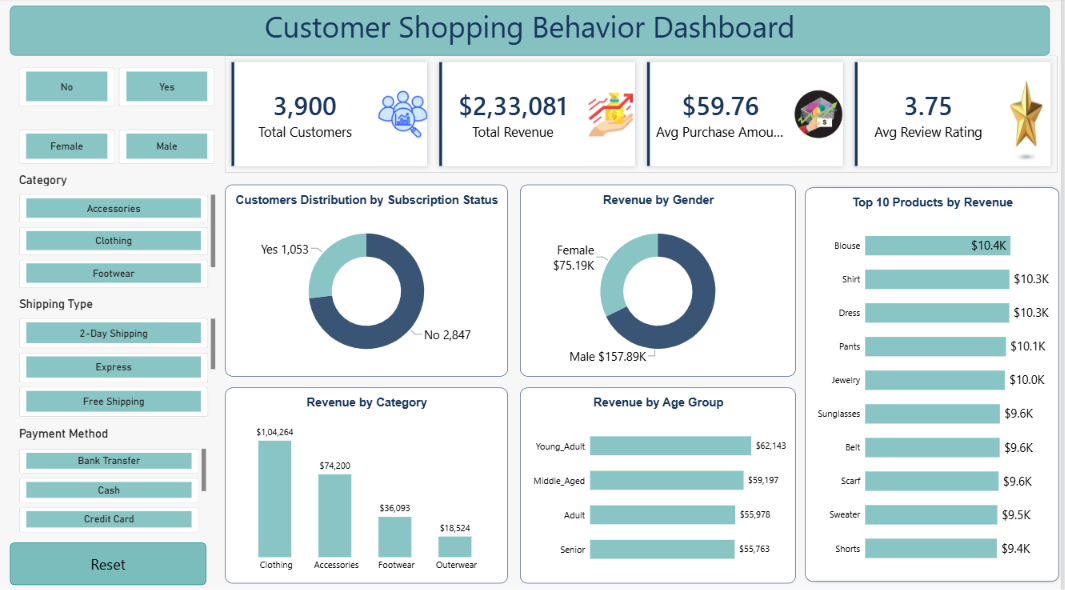

What the dashboard file says about the page in this screenshot:
{"tool":"powerbi","page":{"name":"Page 1","canvas":[1920,1080],"ordinal":0},"visuals":[{"type":"donutChart","title":"Customers Distribution by Subscription Status","fields":{"Category":["public customer.subscription_status"],"Y":["public customer.Total Customers"]},"box":[407.2,338.4,512.1,347.5],"z":0},{"type":"shape","box":[1456.6,338,463.4,723.6],"z":1000},{"type":"cardVisual","fields":{"Data":["public customer.Total Customers","public customer.Total Revenue","public customer.Avg Purchase Amount","public customer.Avg Review Rating"]},"box":[406.8,104.9,1508.8,212],"z":2000},{"type":"textbox","box":[18.5,14.4,1881.3,90.6],"z":3000},{"type":"clusteredColumnChart","title":"Revenue by Category","fields":{"Category":["public customer.category"],"Y":["public customer.Total Revenue"]},"box":[407.2,705.8,512.1,354.7],"z":4000},{"type":"clusteredBarChart","title":"Revenue by Age Group","fields":{"Category":["public customer.age_group"],"Y":["public customer.Total Revenue"]},"box":[941,705.8,499.5,354.7],"z":5000},{"type":"clusteredBarChart","title":"Top 10 Products by Revenue","fields":{"Category":["public customer.item_purchased"],"Y":["public customer.Total Revenue"]},"box":[1456.8,343.8,459.7,713],"z":6000},{"type":"donutChart","title":"Revenue by Gender","fields":{"Category":["public customer.gender"],"Y":["public customer.Total Revenue"]},"box":[941,338.4,499.5,347.5],"z":7000},{"type":"advancedSlicerVisual","fields":{"Values":["public customer.subscription_status"]},"box":[34.3,127.1,355,70.6],"z":8000},{"type":"advancedSlicerVisual","fields":{"Values":["public customer.gender"]},"box":[34.3,238,355,62.5],"z":9000},{"type":"advancedSlicerVisual","title":"Category","fields":{"Values":["public customer.category"]},"box":[34.3,316.7,355,209.8],"z":10000},{"type":"advancedSlicerVisual","title":"Shipping Type","fields":{"Values":["public customer.shipping_type"]},"box":[34.3,540.6,355,219.9],"z":11000},{"type":"advancedSlicerVisual","title":"Payment Method","fields":{"Values":["public customer.payment_method"]},"box":[34.3,776.6,338.9,193.7],"z":12000},{"type":"actionButton","box":[18.2,986.4,355,76.7],"z":12001}]}

Visuals, with their boxes in screenshot pixels (x1, y1, x2, y2), scaled from the page's 1920x1080 canvas onto the 1065x590 screenshot:
"Customers Distribution by Subscription Status" donutChart: pyautogui.locateOnScreen(226, 185, 510, 375)
shape: pyautogui.locateOnScreen(808, 185, 1064, 580)
cardVisual - public customer.Total Customers x public customer.Total Revenue: pyautogui.locateOnScreen(226, 57, 1063, 173)
textbox: pyautogui.locateOnScreen(10, 8, 1054, 57)
"Revenue by Category" clusteredColumnChart: pyautogui.locateOnScreen(226, 386, 510, 579)
"Revenue by Age Group" clusteredBarChart: pyautogui.locateOnScreen(522, 386, 799, 579)
"Top 10 Products by Revenue" clusteredBarChart: pyautogui.locateOnScreen(808, 188, 1063, 577)
"Revenue by Gender" donutChart: pyautogui.locateOnScreen(522, 185, 799, 375)
advancedSlicerVisual - public customer.subscription_status: pyautogui.locateOnScreen(19, 69, 216, 108)
advancedSlicerVisual - public customer.gender: pyautogui.locateOnScreen(19, 130, 216, 164)
"Category" advancedSlicerVisual: pyautogui.locateOnScreen(19, 173, 216, 288)
"Shipping Type" advancedSlicerVisual: pyautogui.locateOnScreen(19, 295, 216, 415)
"Payment Method" advancedSlicerVisual: pyautogui.locateOnScreen(19, 424, 207, 530)
actionButton: pyautogui.locateOnScreen(10, 539, 207, 581)
